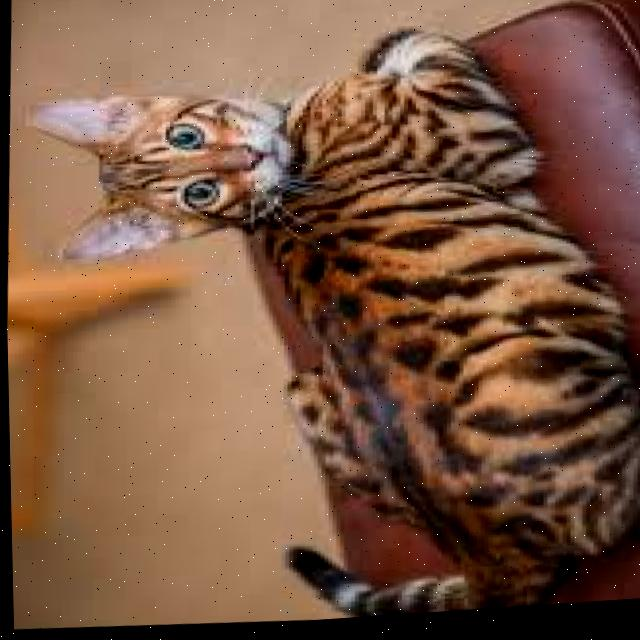Toyger: (1, 4, 640, 640)
